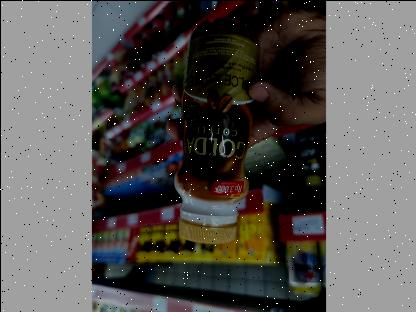Plastic Bottle: (169, 19, 263, 248)
